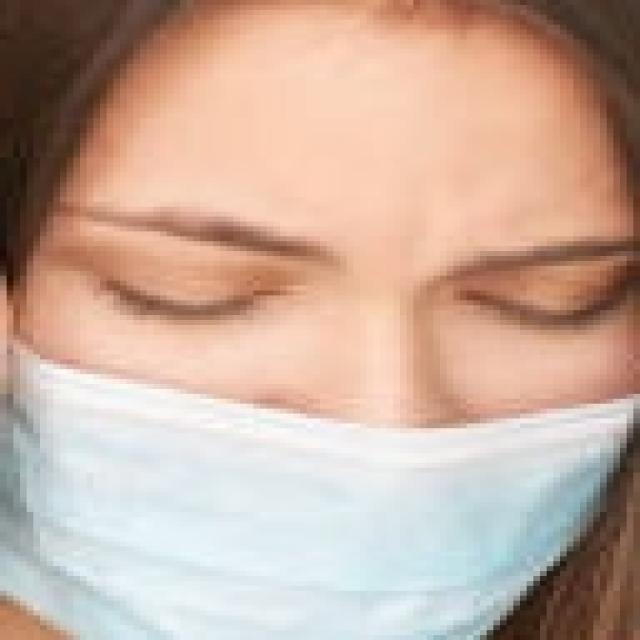Anxiety: (0, 0, 633, 635)
